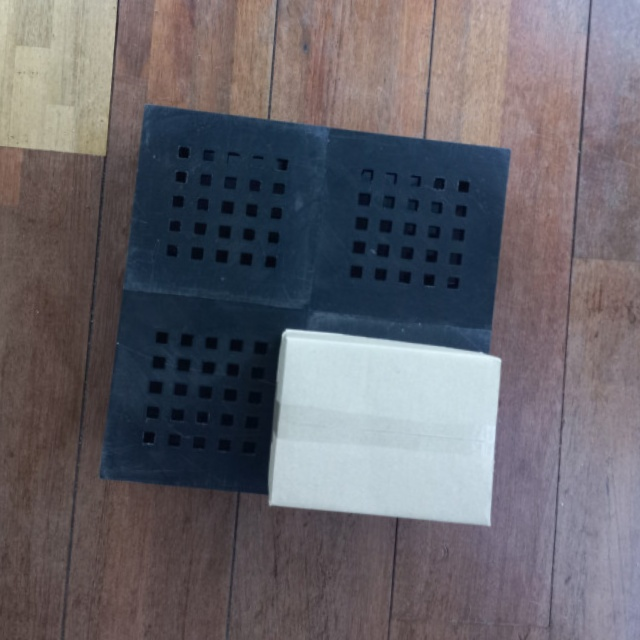box: (266, 327, 502, 530)
pallet: (91, 87, 525, 531)
